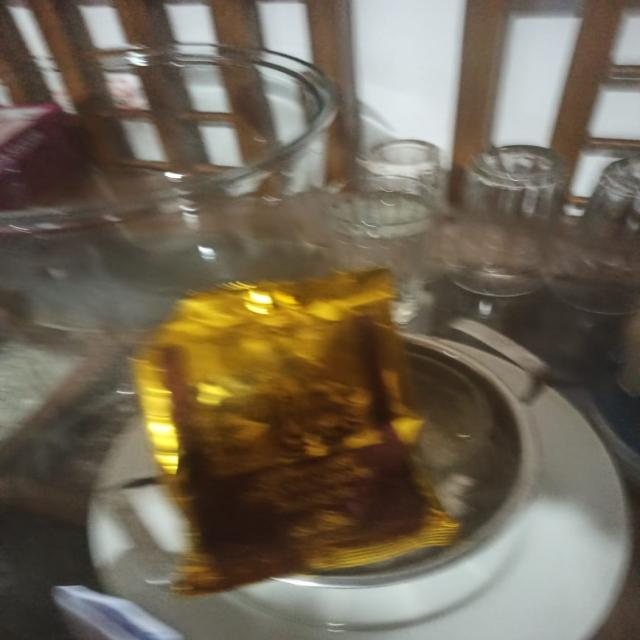Harischandra Coffee: (142, 294, 442, 552)
